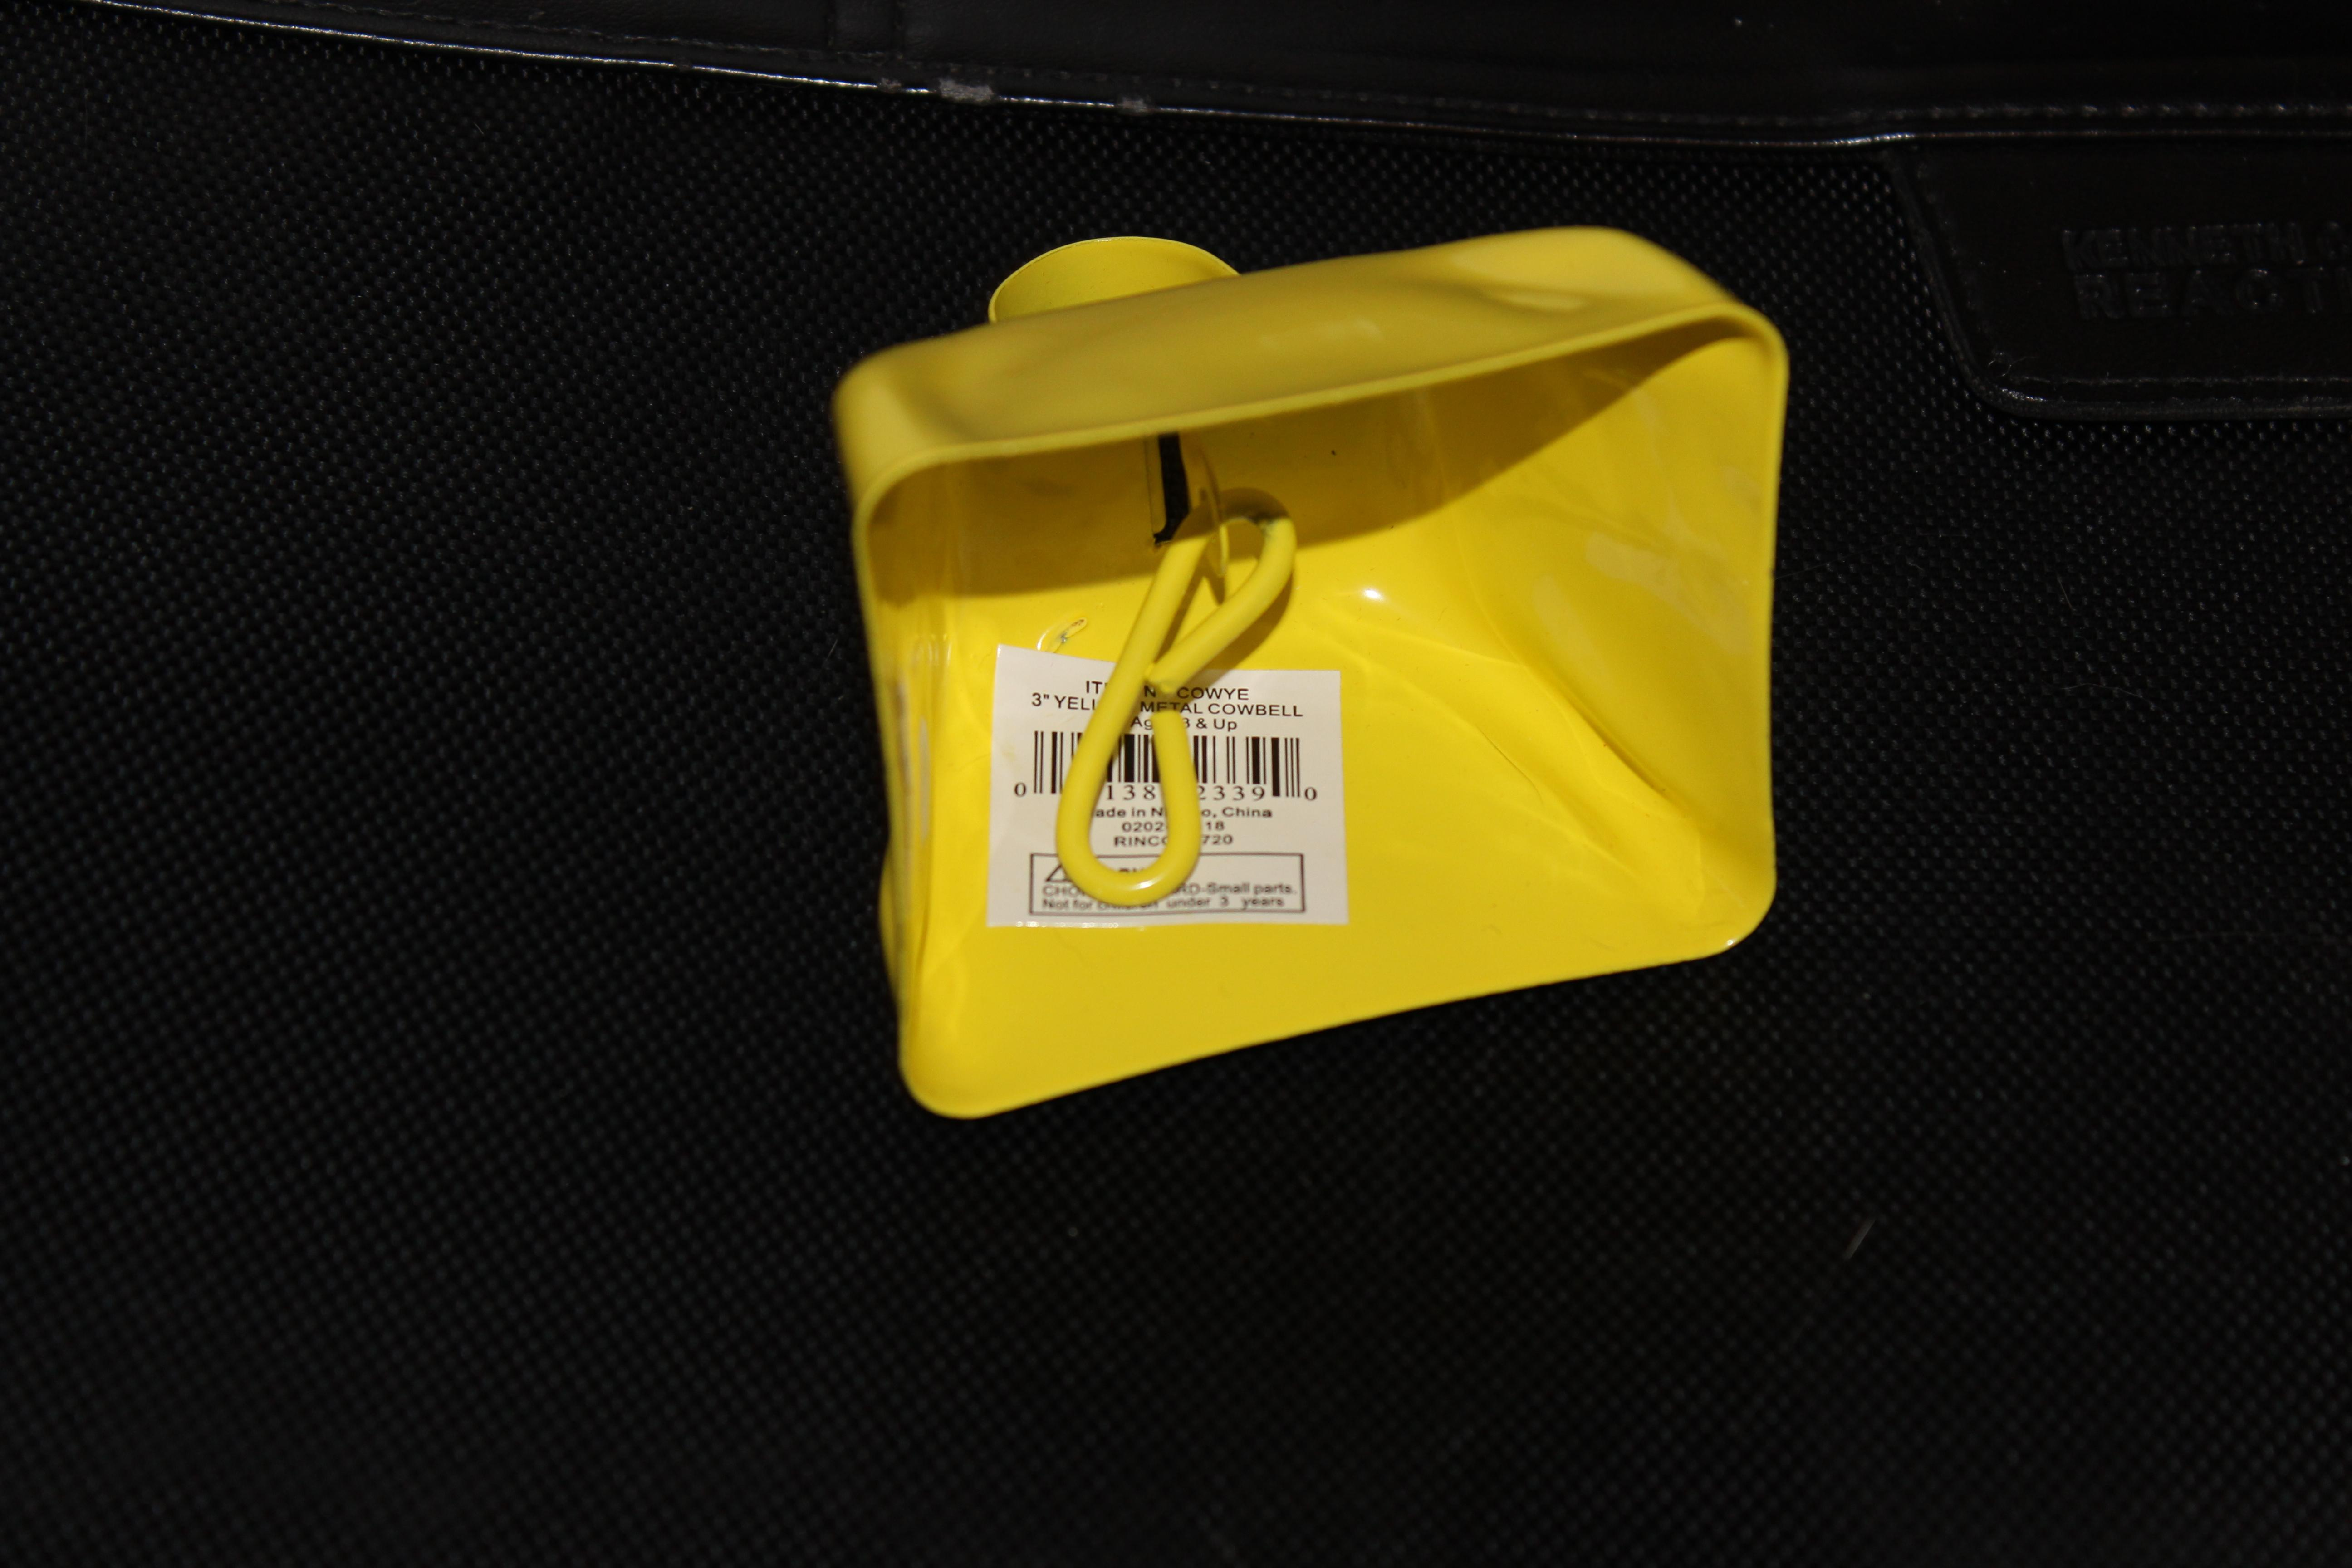cowbell: (775, 194, 1866, 1160)
